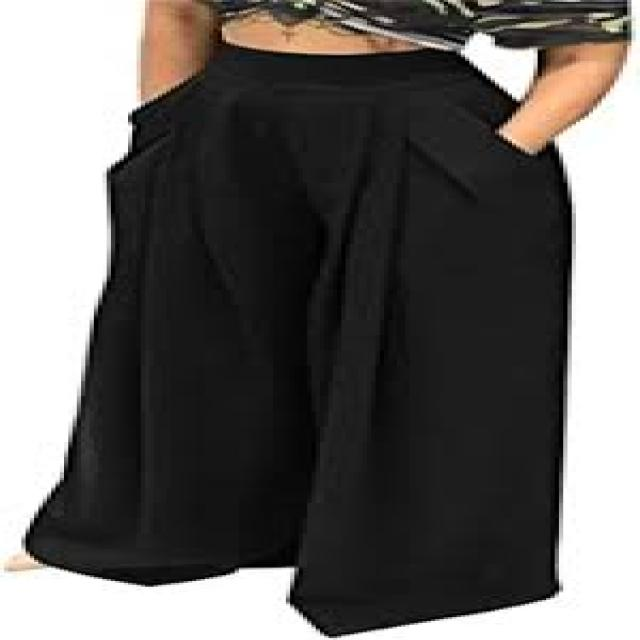pants: (37, 37, 578, 634)
